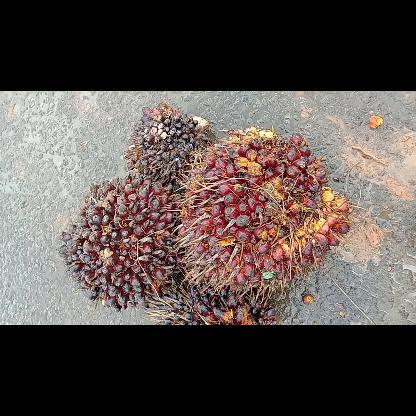Kurang masak: (58, 174, 178, 312)
TBS abnormal: (127, 102, 214, 184), (153, 288, 275, 324)
TBS masak: (180, 128, 348, 300)
